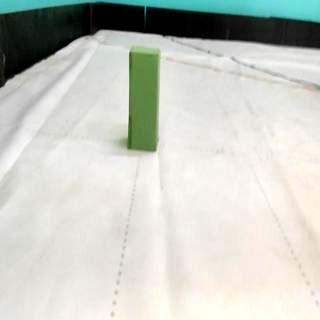greenbox: (127, 44, 164, 155)
